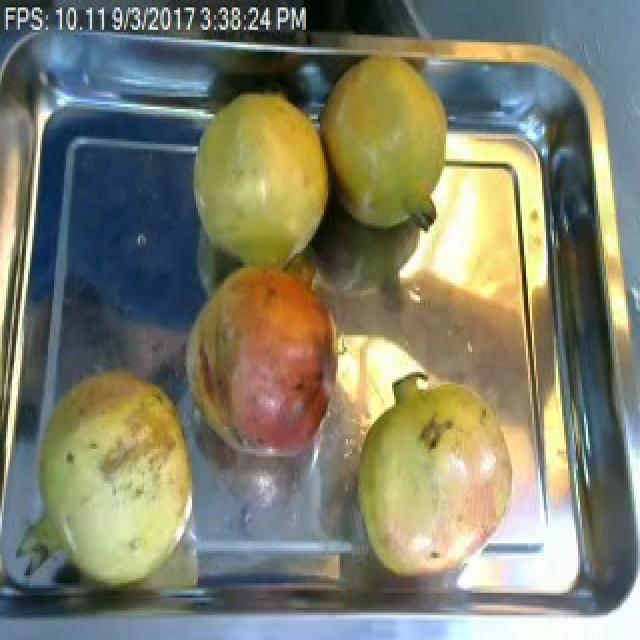fruit: (26, 355, 206, 598), (342, 360, 526, 595), (176, 248, 364, 474), (184, 82, 336, 283), (310, 47, 462, 246)
